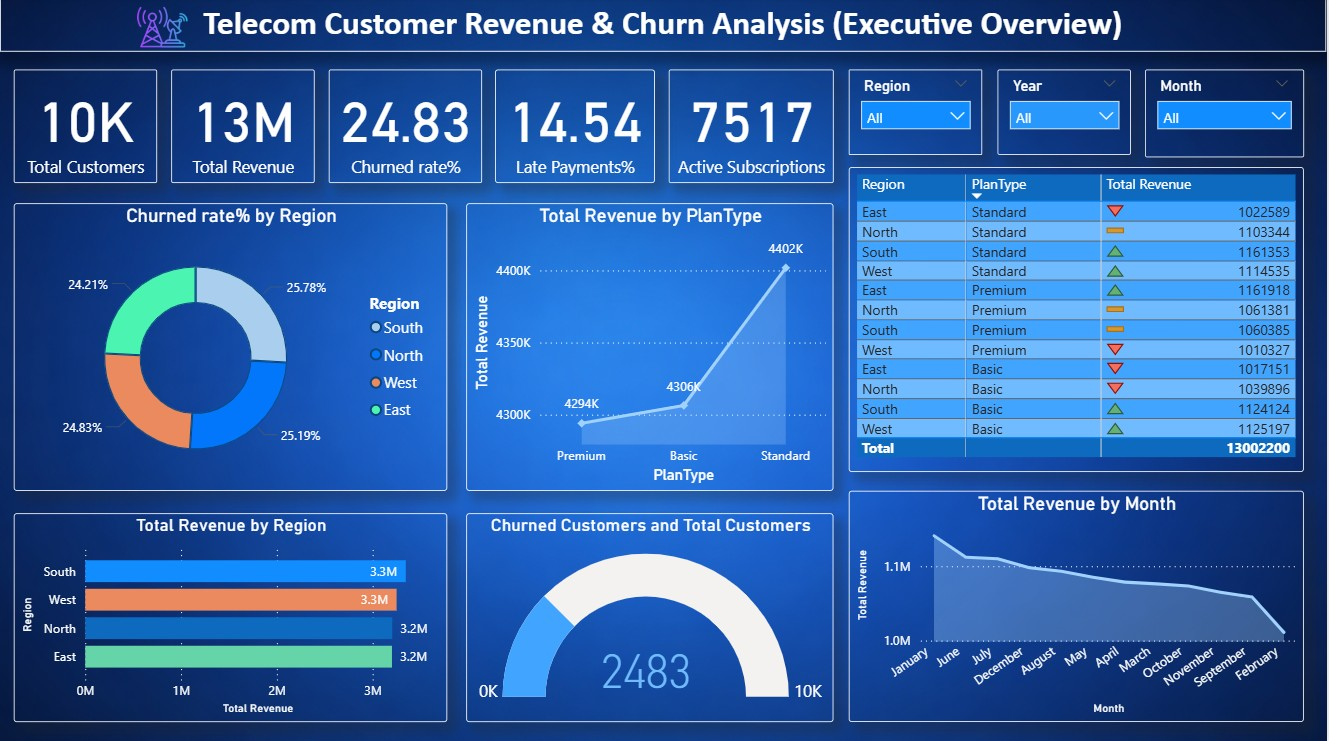

The dashboard page shown, as its layout file describes it:
{"tool":"powerbi","page":{"name":"Executive","canvas":[1280,720],"ordinal":0},"visuals":[{"type":"textbox","box":[0,0,1280,53.1],"z":0},{"type":"card","fields":{"Values":["customers.Total Customers"]},"box":[13.3,70,138.7,109.8],"z":1000},{"type":"card","fields":{"Values":["payments.Total Revenue"]},"box":[165.3,70,138.7,109.8],"z":2000},{"type":"card","fields":{"Values":["subscriptions.Active Subscriptions"]},"box":[645.4,70,159.3,109.8],"z":3000},{"type":"card","fields":{"Values":["subscriptions.Churned rate%"]},"box":[317.3,70,148.4,109.8],"z":4000},{"type":"donutChart","fields":{"Y":["subscriptions.Churned rate%"],"Category":["customers.Region"]},"box":[13.3,199.1,418.6,277.5],"z":5000},{"type":"areaChart","fields":{"Category":["plans.PlanType"],"Y":["payments.Total Revenue"]},"box":[450,199.1,354.7,277.5],"z":6000},{"type":"clusteredBarChart","fields":{"Category":["customers.Region"],"Y":["payments.Total Revenue"]},"box":[13.3,498.3,418.6,201.5],"z":7000},{"type":"slicer","fields":{"Values":["Subscriptions DTable.Month"]},"box":[1105.1,70,153.2,84.5],"z":8000},{"type":"slicer","fields":{"Values":["Subscriptions DTable.Year"]},"box":[962.7,70,129.1,82],"z":9000},{"type":"slicer","fields":{"Values":["customers.Region"]},"box":[819.2,70,129.1,82],"z":10000},{"type":"tableEx","fields":{"Values":["customers.Region","plans.PlanType","payments.Total Revenue"]},"box":[819.2,164.1,439.1,294.4],"z":11000},{"type":"gauge","fields":{"MaxValue":["customers.Total Customers"],"Y":["subscriptions.Churned Customers"]},"box":[450,498.3,354.7,201.5],"z":12000},{"type":"card","fields":{"Values":["payments.Late Payments%"]},"box":[477.8,70,154.4,109.8],"z":13000},{"type":"lineChart","fields":{"Y":["payments.Total Revenue"],"Category":["DateTable.Month"]},"box":[819.2,476.5,439.1,223.2],"z":14000},{"type":"image","box":[127.1,0,59.4,58.2],"z":14001}]}

Visuals, with their boxes in screenshot pixels (x1, y1, x2, y2), scaled from the page's 1280x720 canvas onto the 1329x741 screenshot:
textbox: 0 0 1328 55
card - customers.Total Customers: 14 72 158 185
card - payments.Total Revenue: 172 72 316 185
card - subscriptions.Active Subscriptions: 670 72 836 185
card - subscriptions.Churned rate%: 329 72 484 185
donutChart - subscriptions.Churned rate% x customers.Region: 14 205 448 491
areaChart - plans.PlanType x payments.Total Revenue: 467 205 836 491
clusteredBarChart - customers.Region x payments.Total Revenue: 14 513 448 720
slicer - Subscriptions DTable.Month: 1147 72 1306 159
slicer - Subscriptions DTable.Year: 1000 72 1134 156
slicer - customers.Region: 851 72 985 156
tableEx - customers.Region x plans.PlanType: 851 169 1306 472
gauge - customers.Total Customers x subscriptions.Churned Customers: 467 513 836 720
card - payments.Late Payments%: 496 72 656 185
lineChart - payments.Total Revenue x DateTable.Month: 851 490 1306 720
image: 132 0 194 60
